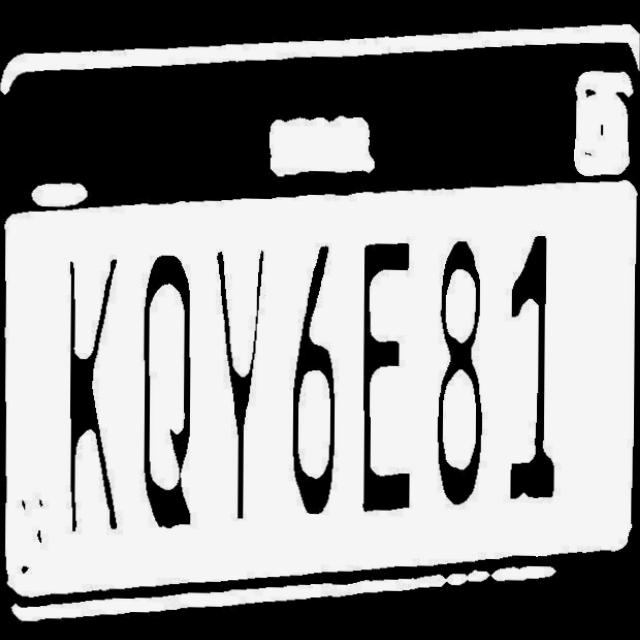1: (505, 216, 585, 512)
6: (289, 238, 360, 536)
8: (436, 221, 509, 515)
e: (357, 223, 439, 523)
k: (49, 247, 130, 538)
q: (126, 244, 213, 546)
y: (208, 233, 291, 524)
